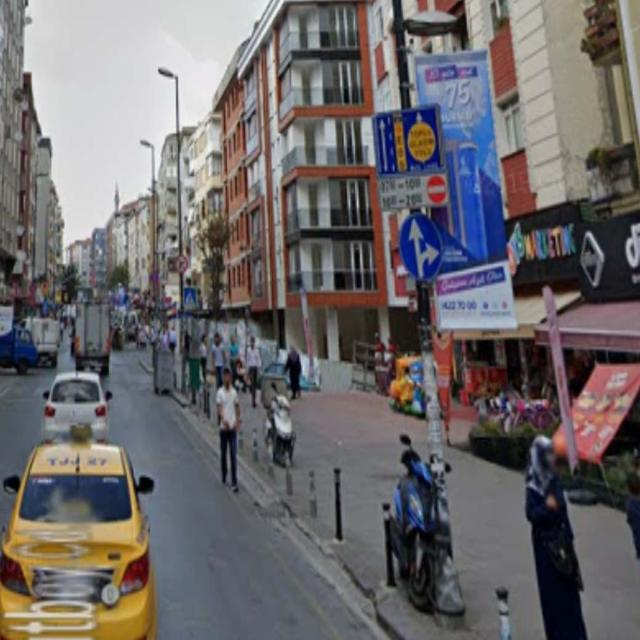girisyok: (426, 175, 448, 204)
ilerisag: (398, 214, 443, 281)
